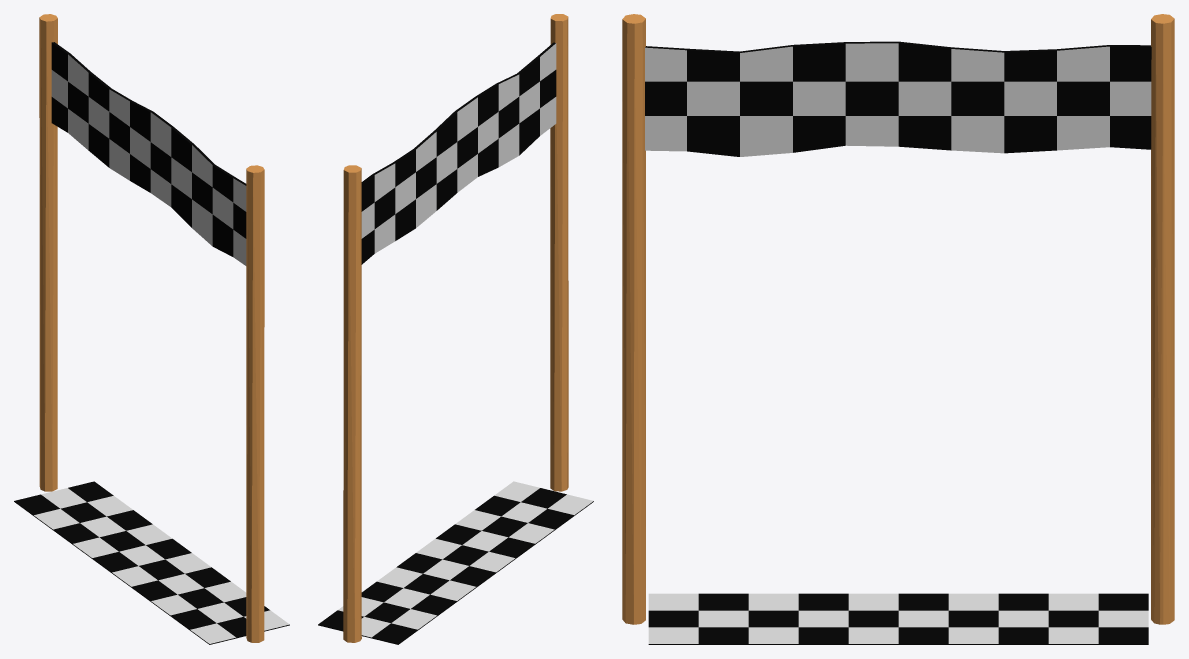
File: Finish Flag.fbx
The picture shows the model from 3 angles, left to right: view 1: azimuth 30°, elevation 25°; view 2: azimuth 150°, elevation 25°; view 3: azimuth 270°, elevation 25°; orthographic projection. The views are drawn at different scales.
Visible parts, largest first — view 1: Finish; view 2: Finish; view 3: Finish.
Part boxes in pixels (x1,y1,x2,y2): Finish: (14,14,289,644); Finish: (318,14,593,644); Finish: (622,14,1174,644).
Bounding box in the file's own units: 44.85 × 251 × 209.
